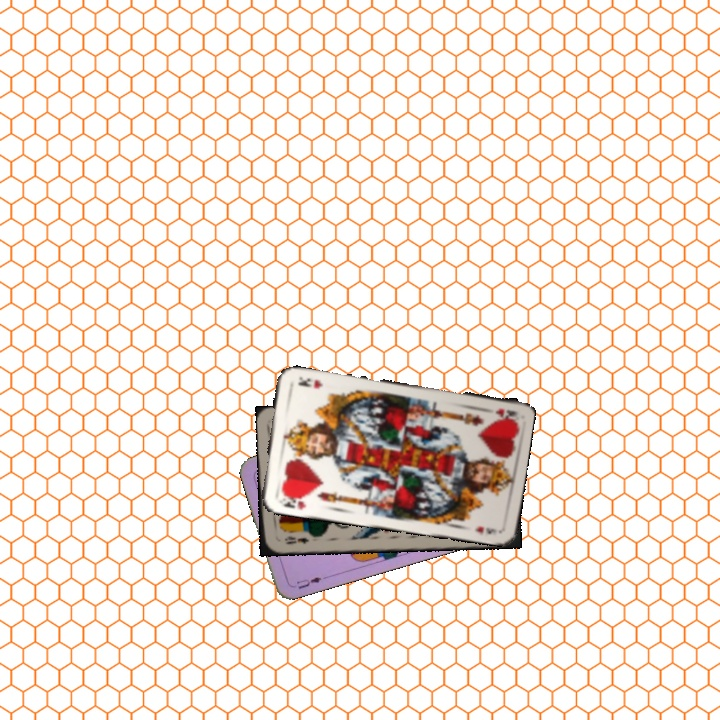EO: (281, 532, 311, 547)
EU: (288, 572, 328, 591)
HK: (277, 490, 310, 512), (491, 404, 518, 421)
